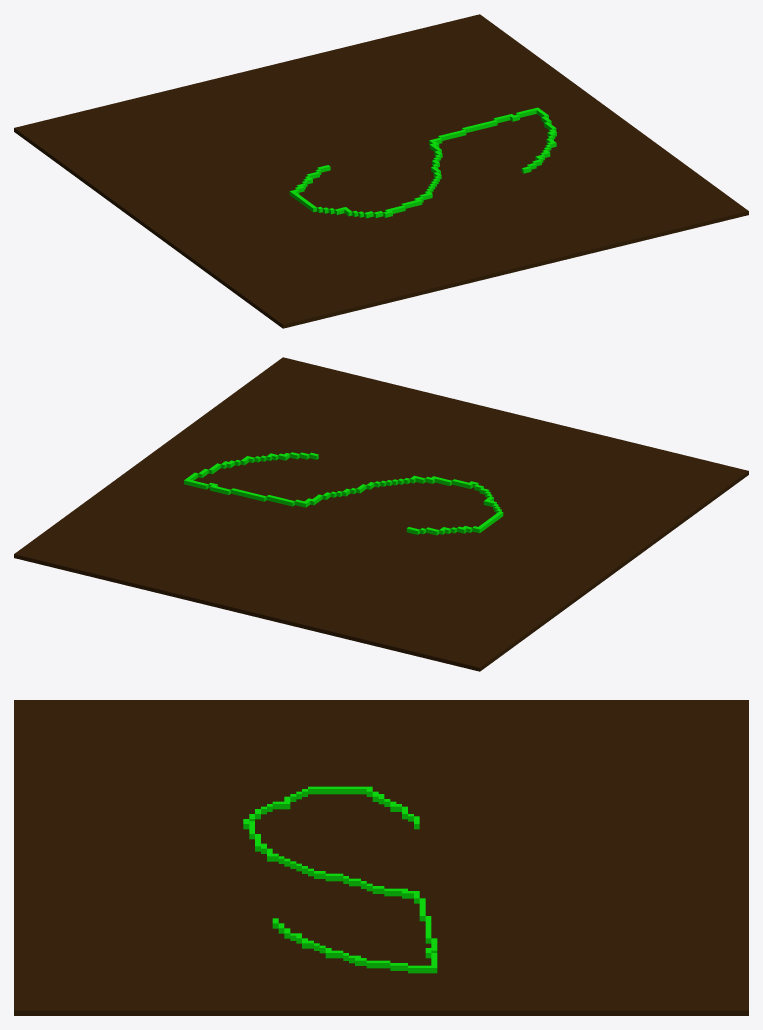
File: Level01-4.obj
The picture shows the model from 3 angles, top to bottom: view 1: azimuth 30°, elevation 25°; view 2: azimuth 150°, elevation 25°; view 3: azimuth 270°, elevation 25°; orthographic projection. The views are drawn at different scales.
Parts seen in each view (by area): view 1: Level01-4; view 2: Level01-4; view 3: Level01-4.
Part boxes in pixels (x1=…): Level01-4: x1=14, y1=14, x2=748, y2=328; Level01-4: x1=14, y1=357, x2=748, y2=671; Level01-4: x1=14, y1=700, x2=748, y2=1015.
Bounding box in the file's own units: 125 × 2 × 125.
Materials: 1 (1 with a texture image).
